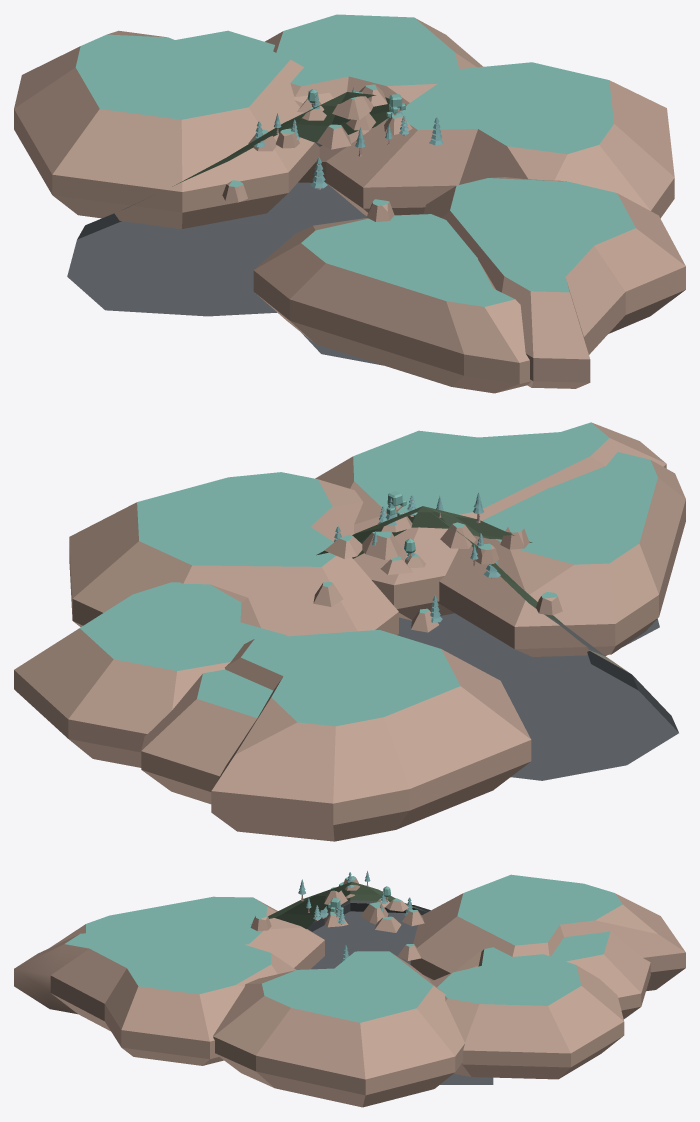
Rendered from hags_rock_lod0.glb.
The picture shows the model from 3 angles, top to bottom: view 1: azimuth 30°, elevation 25°; view 2: azimuth 150°, elevation 25°; view 3: azimuth 270°, elevation 25°; orthographic projection. The views are drawn at different scales.
Size of the model in its own units: 3.25 by 0.8978 by 4.4.
